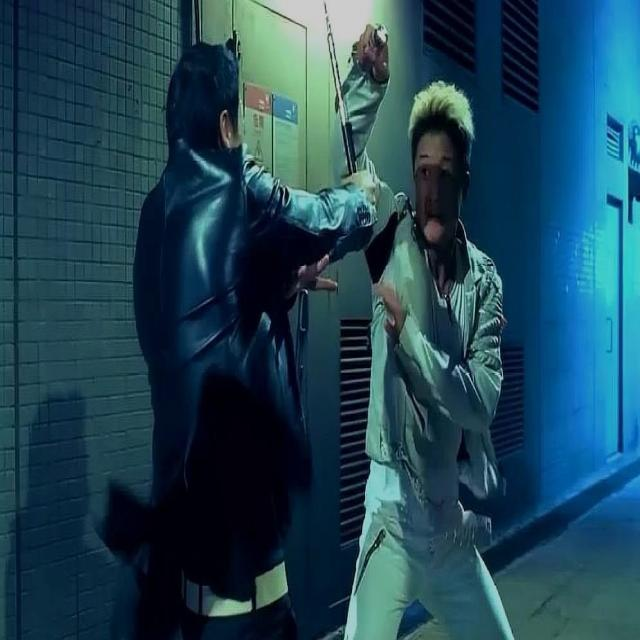fight: (132, 18, 519, 640)
